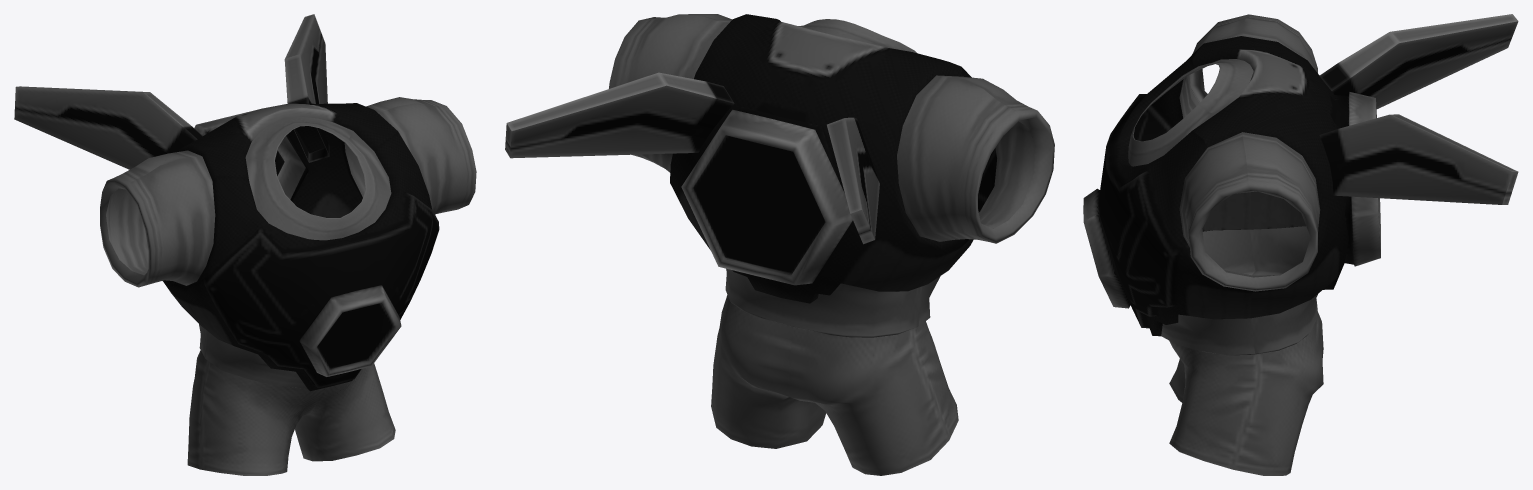
The picture shows the model from 3 angles, left to right: view 1: azimuth 30°, elevation 25°; view 2: azimuth 150°, elevation 25°; view 3: azimuth 270°, elevation 25°; orthographic projection. The views are drawn at different scales.
Visible parts, largest first — view 1: model_0_submesh_1, model_0_submesh_0; view 2: model_0_submesh_1, model_0_submesh_0; view 3: model_0_submesh_1, model_0_submesh_0.
Boxes of the visible parts, box(x1,y1,x2,y2) form: model_0_submesh_1: box(14, 14, 439, 391); model_0_submesh_0: box(100, 97, 476, 475); model_0_submesh_1: box(505, 14, 996, 303); model_0_submesh_0: box(609, 14, 1054, 475); model_0_submesh_1: box(1083, 14, 1518, 336); model_0_submesh_0: box(1128, 14, 1323, 475).
Bounding box in the file's own units: 1.2 × 1.24 × 1.28.
